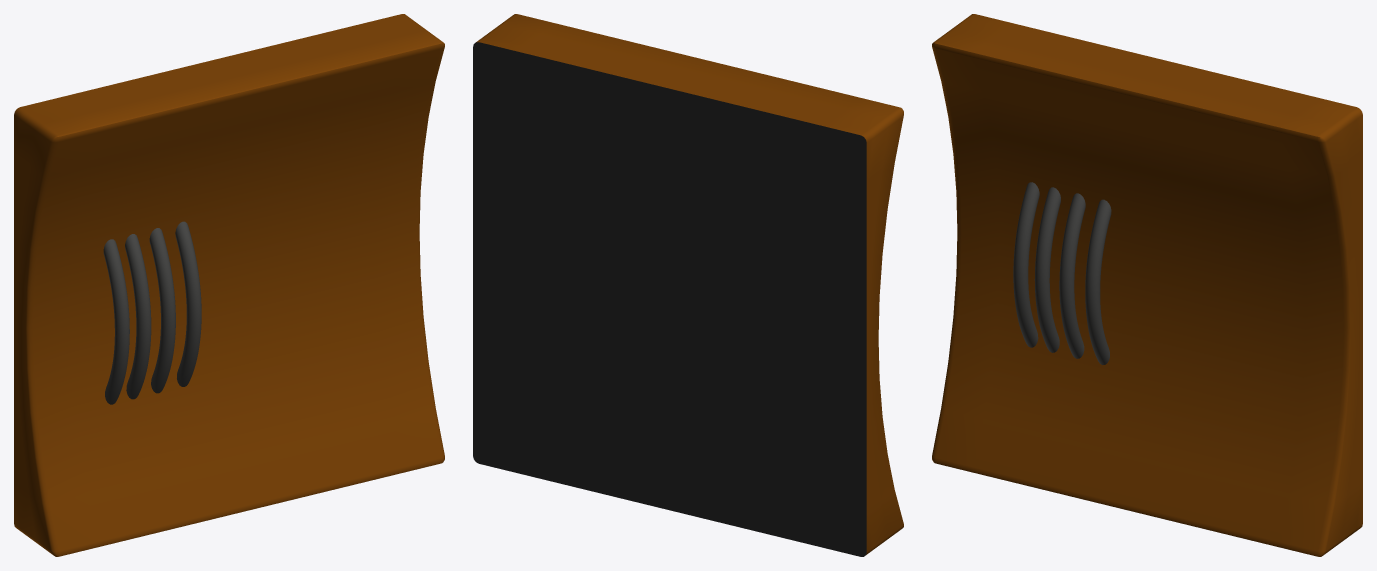
File: Боковая панель право.fbx
3 renders of one model, left to right at view 1: azimuth 30°, elevation 25°; view 2: azimuth 150°, elevation 25°; view 3: azimuth 330°, elevation 25°, orthographic.
Parts seen in each view (by area): view 1: Cube_1, Torus_3, Torus_1, Torus, Torus_2; view 2: Cube_3, Cube_1; view 3: Cube_1, Torus, Torus_2, Torus_3, Torus_1.
Part boxes in pixels (x1,y1,x2,y2): Cube_1: [14, 14, 444, 556]; Torus_3: [175, 221, 201, 386]; Torus_1: [125, 234, 151, 399]; Torus: [103, 239, 129, 404]; Torus_2: [149, 228, 175, 393]; Cube_3: [473, 42, 866, 556]; Cube_1: [476, 14, 903, 554]; Cube_1: [932, 14, 1362, 556]; Torus: [1013, 182, 1039, 347]; Torus_2: [1059, 193, 1085, 358]; Torus_3: [1085, 199, 1111, 364]; Torus_1: [1034, 187, 1060, 352].
Bounding box in the file's own units: 124 × 127 × 21.62.
